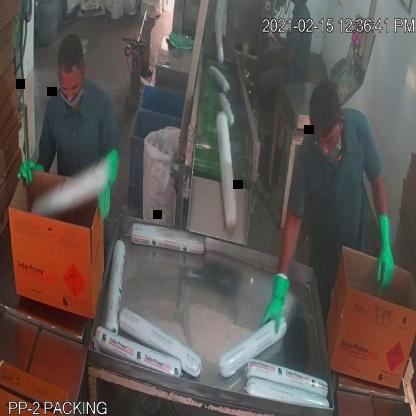glove: (367, 202, 401, 301), (262, 258, 290, 343)
no_glove: (260, 41, 296, 73)
